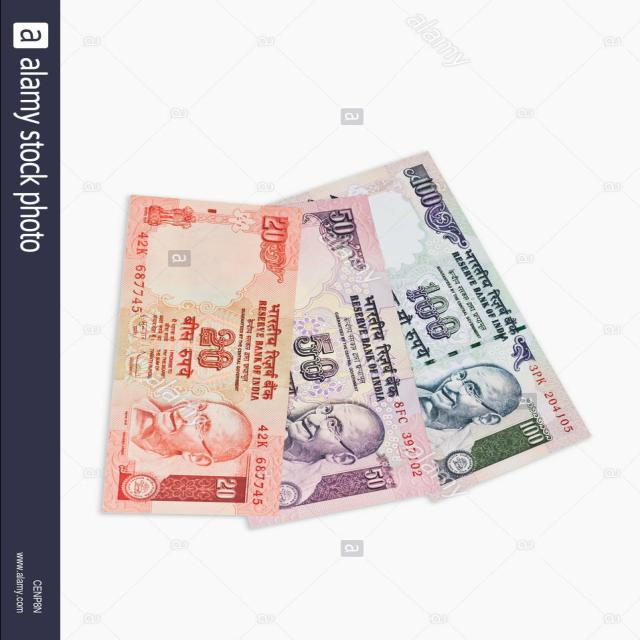20IndianRupees: (100, 199, 316, 515)
